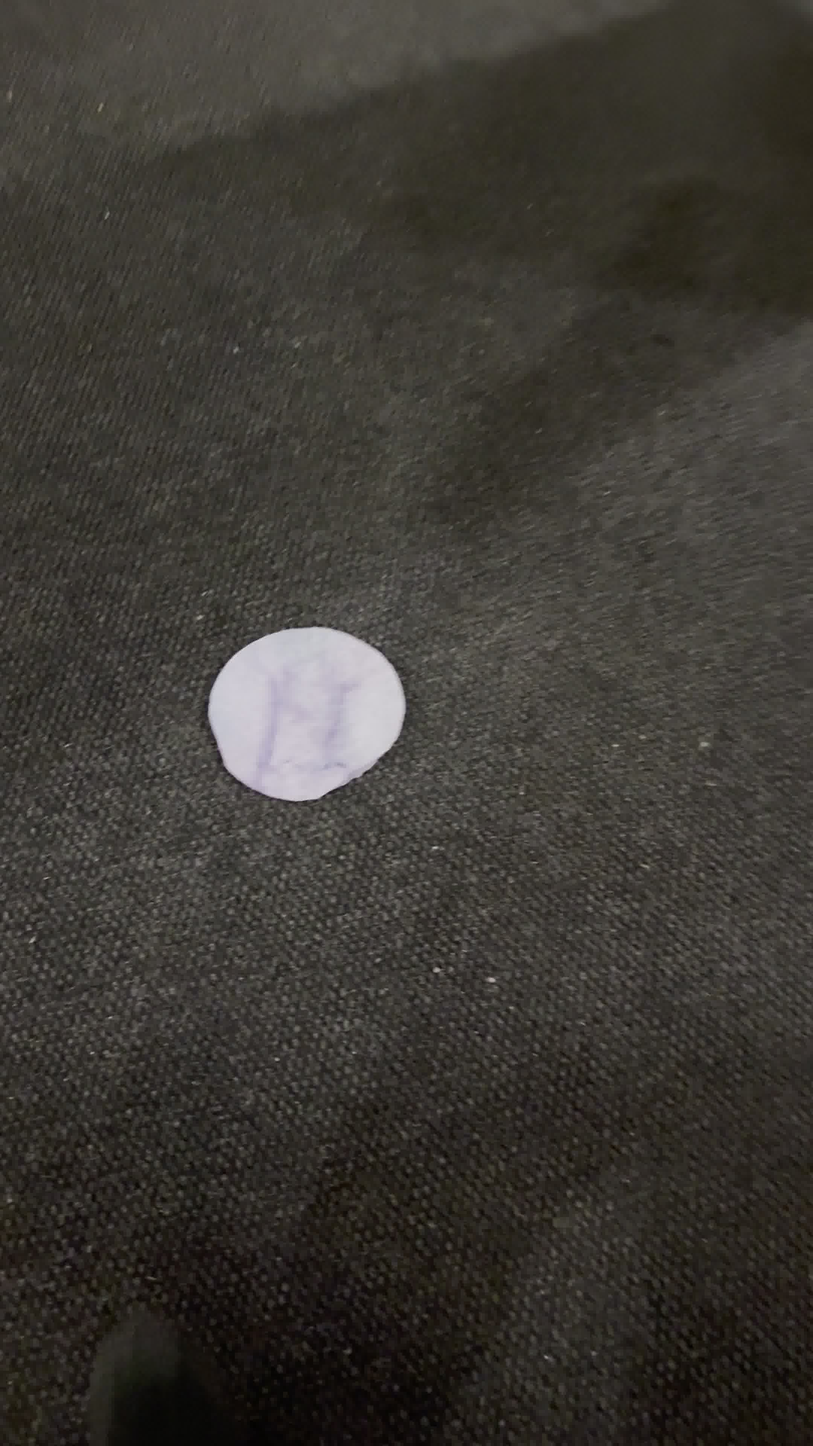Target: (204, 626, 407, 802)
